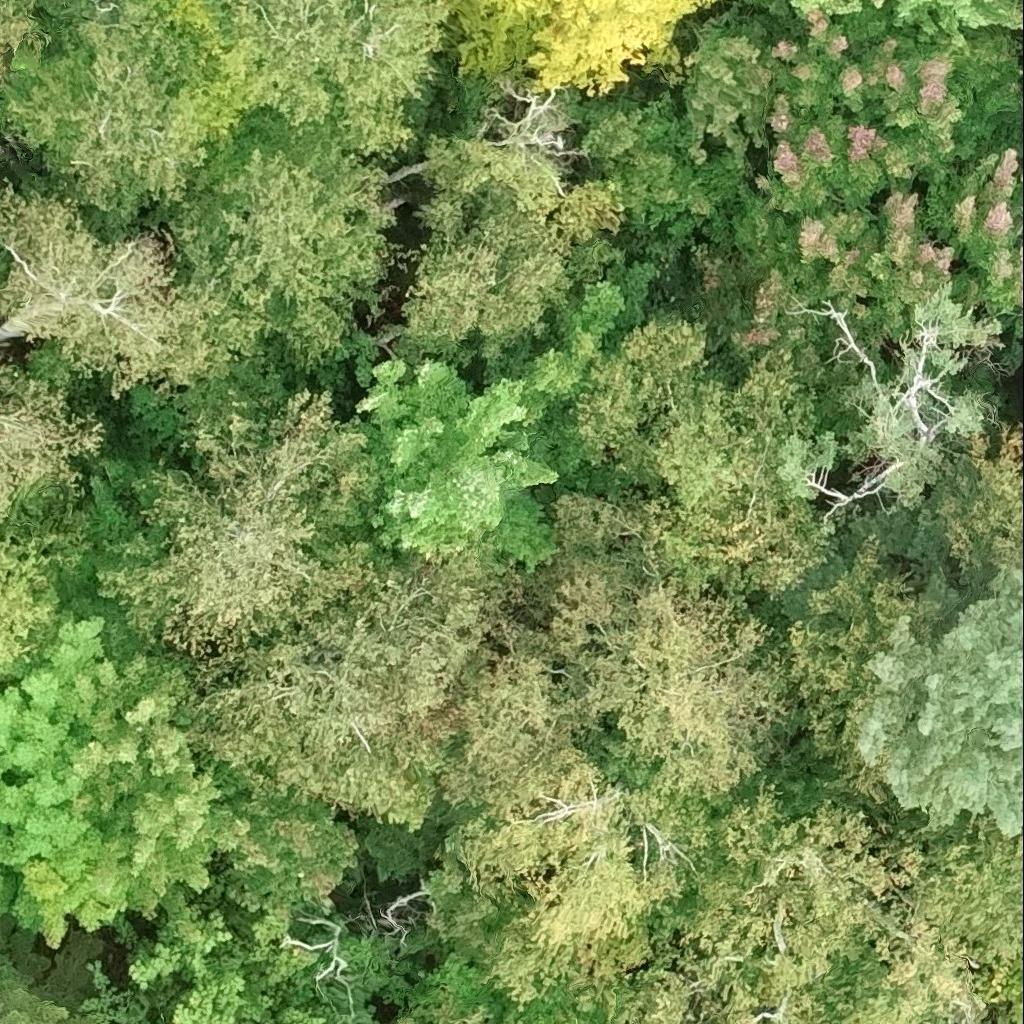crown: (0, 178, 272, 398), (758, 0, 1019, 215), (403, 102, 622, 355), (695, 181, 957, 373), (10, 0, 199, 215), (222, 142, 401, 366), (230, 0, 451, 158), (536, 88, 752, 240), (457, 0, 711, 92), (926, 110, 1023, 336), (679, 0, 809, 164), (0, 364, 107, 523), (897, 0, 1023, 45), (0, 0, 48, 75), (1012, 30, 1023, 125), (791, 0, 858, 15), (872, 0, 884, 9), (227, 0, 232, 1)
